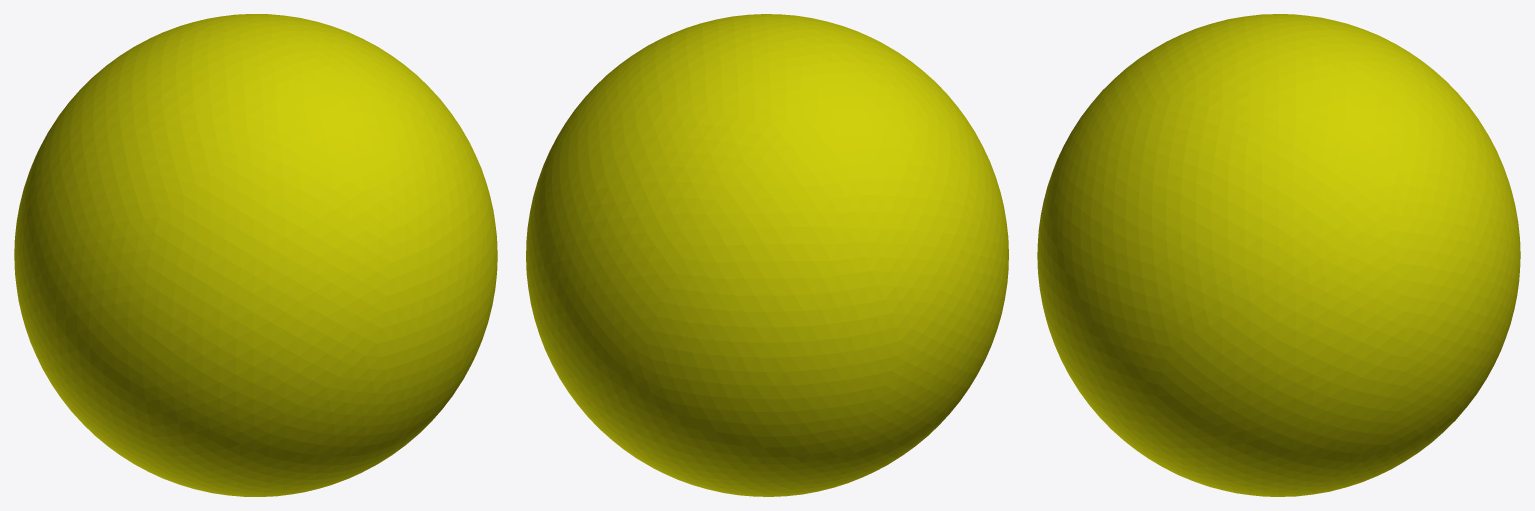
The model's file is yellow.obj.
The picture shows the model from 3 angles, left to right: view 1: azimuth 30°, elevation 25°; view 2: azimuth 150°, elevation 25°; view 3: azimuth 270°, elevation 25°; orthographic projection.
Parts seen in each view (by area): view 1: Icosphere; view 2: Icosphere; view 3: Icosphere.
Boxes of the visible parts, x1,y1,x2,y2 form: Icosphere: [14, 14, 497, 496]; Icosphere: [526, 14, 1008, 496]; Icosphere: [1037, 14, 1520, 496].
Size of the model in its own units: 0.061 by 0.061 by 0.061.
